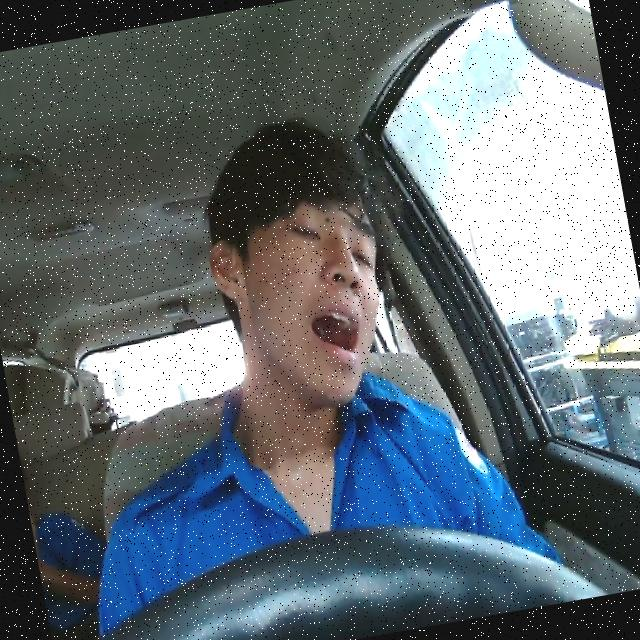yarning: (192, 168, 402, 427)
